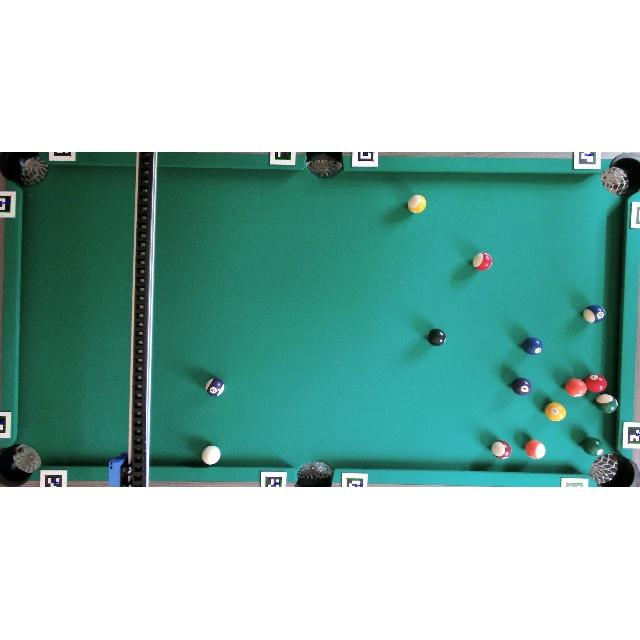cue ball: (201, 445, 221, 466)
other: (581, 437, 605, 457), (564, 378, 587, 398), (584, 373, 607, 393), (596, 394, 618, 414), (583, 305, 606, 324), (545, 402, 566, 422), (525, 440, 546, 459), (521, 337, 543, 355), (492, 440, 512, 459), (472, 252, 492, 270), (511, 378, 531, 396), (408, 194, 426, 213), (427, 328, 446, 346), (206, 378, 224, 396)
